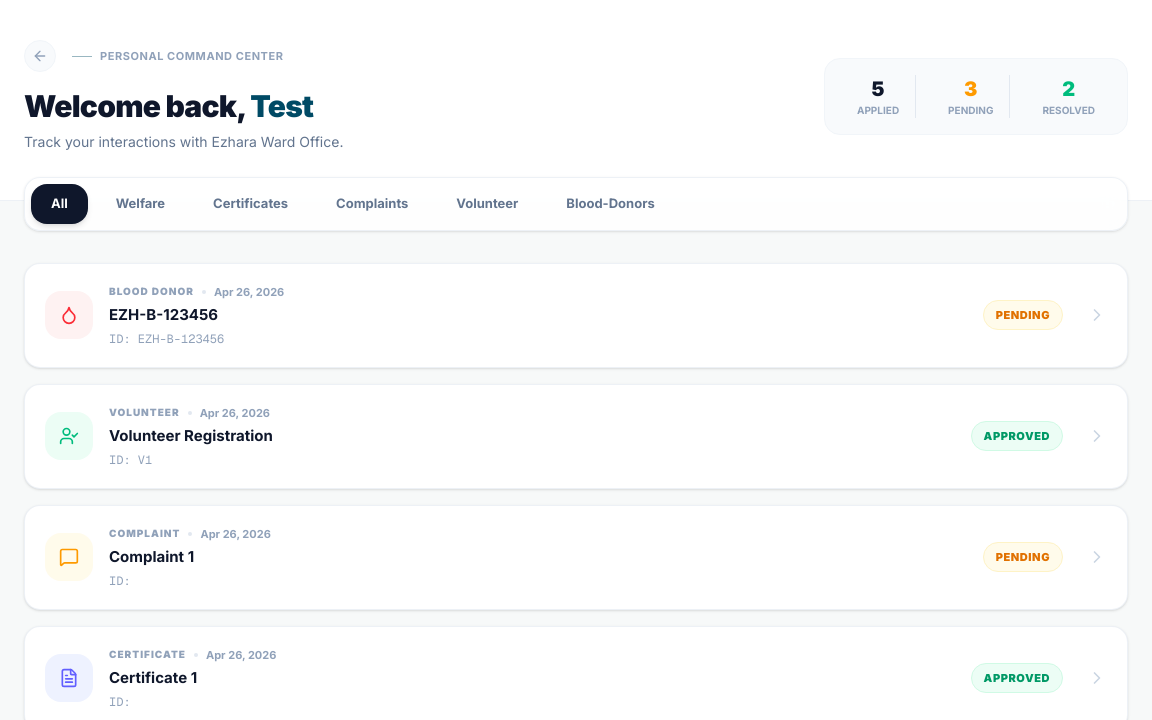
Test: DashboardPage › renders all applications by default and filters correctly
Check: the heading "Certificate 1" is shown, box [109, 668, 197, 687]
Check: the heading "Complaint 1" is shown, box [109, 547, 194, 566]
// Filter by Complaints
Click the button "complaints": (372, 204) [316, 184, 428, 224]
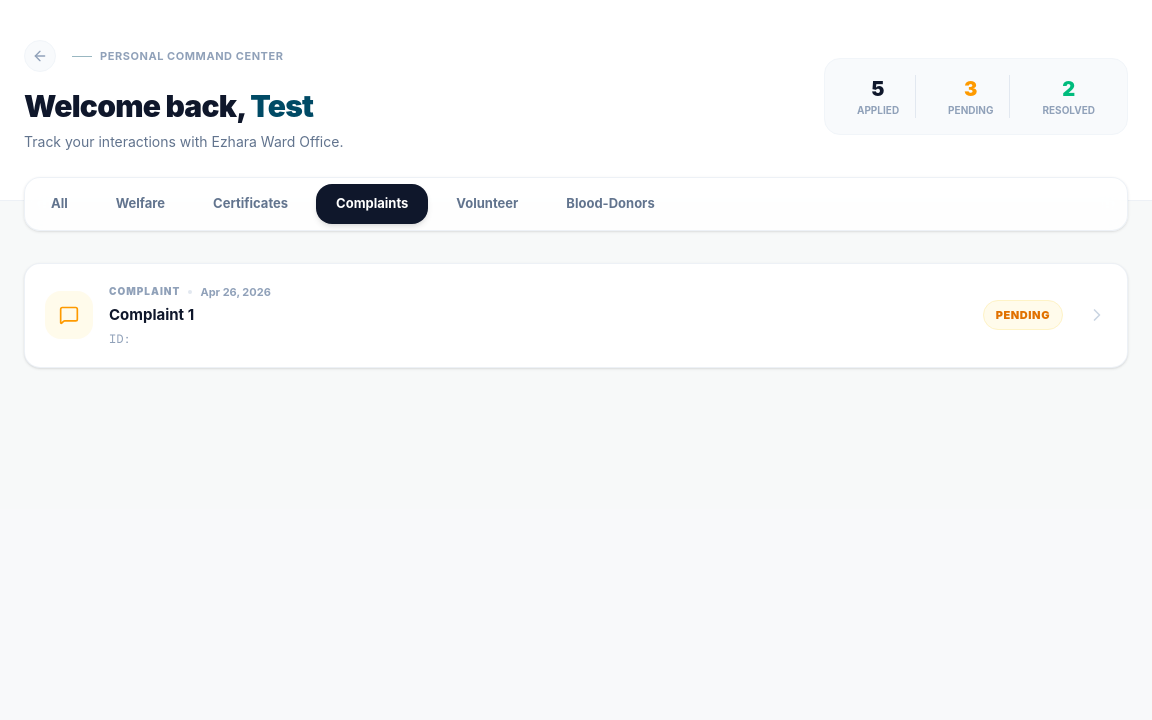
Check: the heading "Complaint 1" is shown, box [109, 305, 194, 324]
Check: the heading "Certificate 1" is gone
